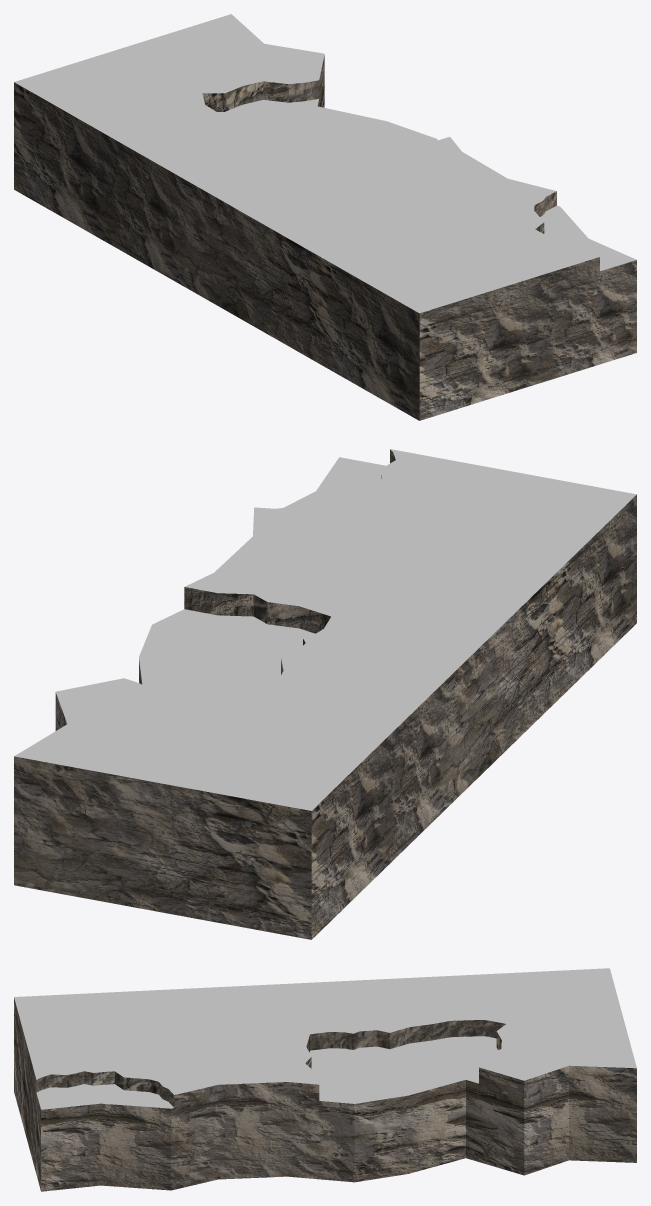
Rendered from layeredRock.fbx.
3 renders of one model, top to bottom at view 1: azimuth 30°, elevation 25°; view 2: azimuth 150°, elevation 25°; view 3: azimuth 270°, elevation 25°, orthographic. The views are drawn at different scales.
Visible parts, largest first — view 1: Cube; view 2: Cube; view 3: Cube.
Boxes of the visible parts, x1,y1,x2,y2 form: Cube: (14,14,636,420); Cube: (14,449,636,939); Cube: (14,968,636,1191).
Bounding box in the file's own units: 617 × 211 × 1260.
